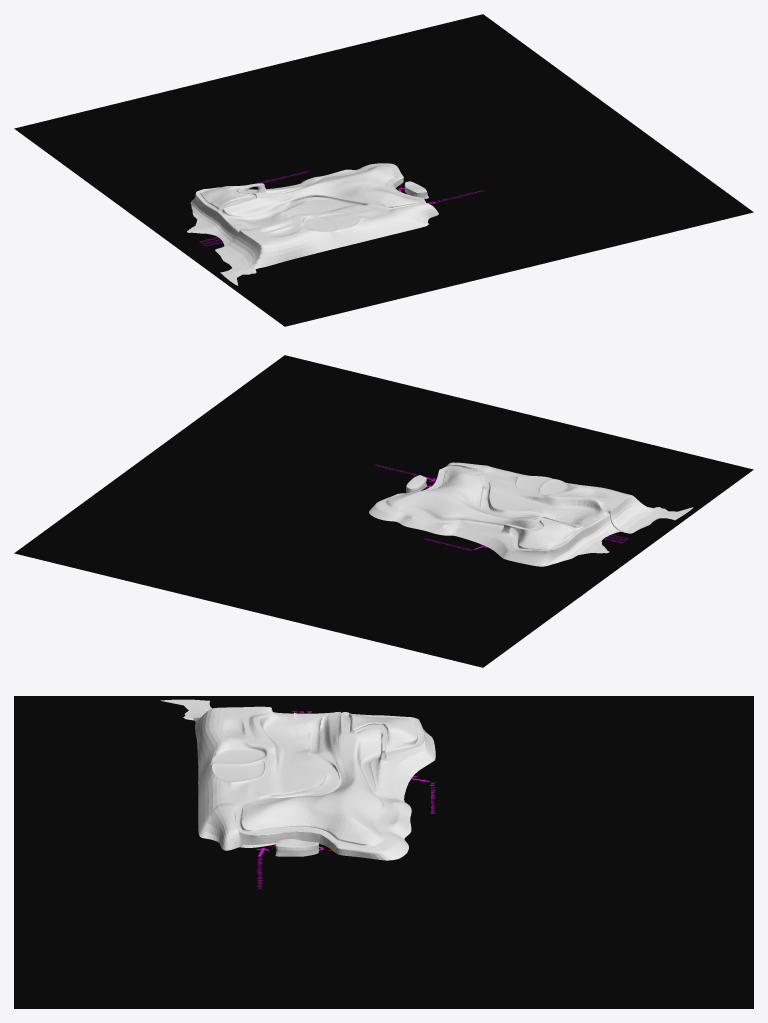
Rendered from stage3.fbx.
The picture shows the model from 3 angles, top to bottom: view 1: azimuth 30°, elevation 25°; view 2: azimuth 150°, elevation 25°; view 3: azimuth 270°, elevation 25°; orthographic projection. The views are drawn at different scales.
Visible parts, largest first — view 1: Plane__1_, Plane.002; view 2: Plane__1_, Plane.002; view 3: Plane__1_, Plane.002, Plane.005.
Part boxes in pixels (bbox=[...]): Plane__1_: bbox=[14, 14, 753, 326]; Plane.002: bbox=[130, 163, 438, 285]; Plane__1_: bbox=[14, 355, 753, 667]; Plane.002: bbox=[369, 462, 693, 597]; Plane__1_: bbox=[14, 696, 753, 1008]; Plane.002: bbox=[160, 699, 435, 860]; Plane.005: bbox=[275, 839, 318, 856].
Size of the model in its own units: 252000 by 16730 by 252000.
